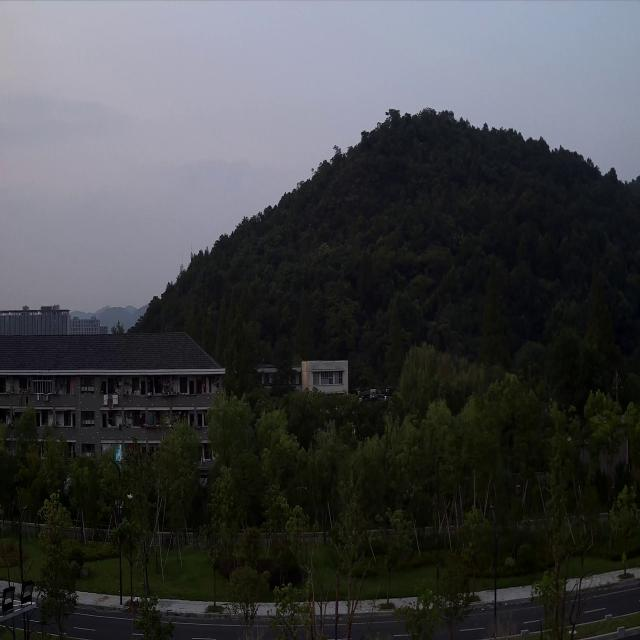UAV: (354, 384, 393, 402)
